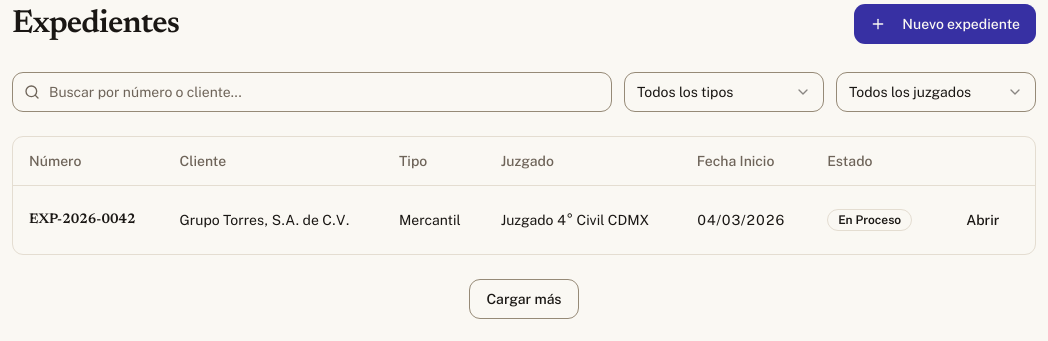
paging is forward-only and cursor-driven › sends the cursor back verbatim and appends the next page
Expected: the row "EXP-2026-0042" is shown, [13,185,1035,254]
Click the button "Cargar más" at (524, 298), box [470,278,578,318]
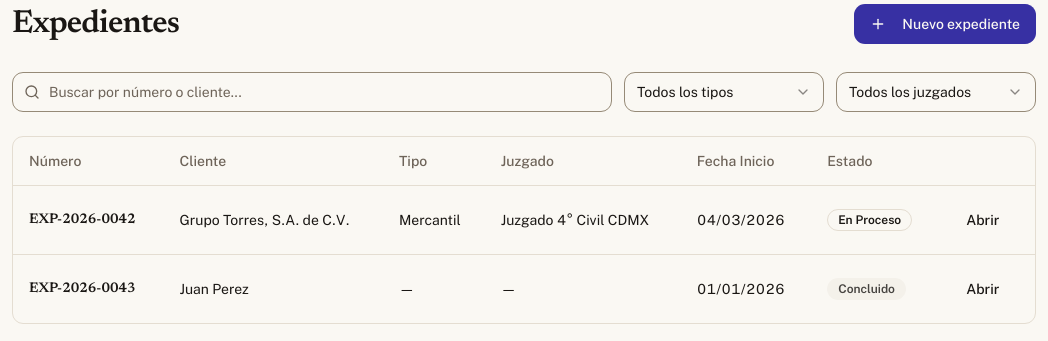
Expected: the row "EXP-2026-0042" is shown, [13,185,1035,254]
Expected: the row "EXP-2026-0043 Juan Perez — — 01/01/2026 Concluido Abrir" is shown, [13,254,1035,322]
